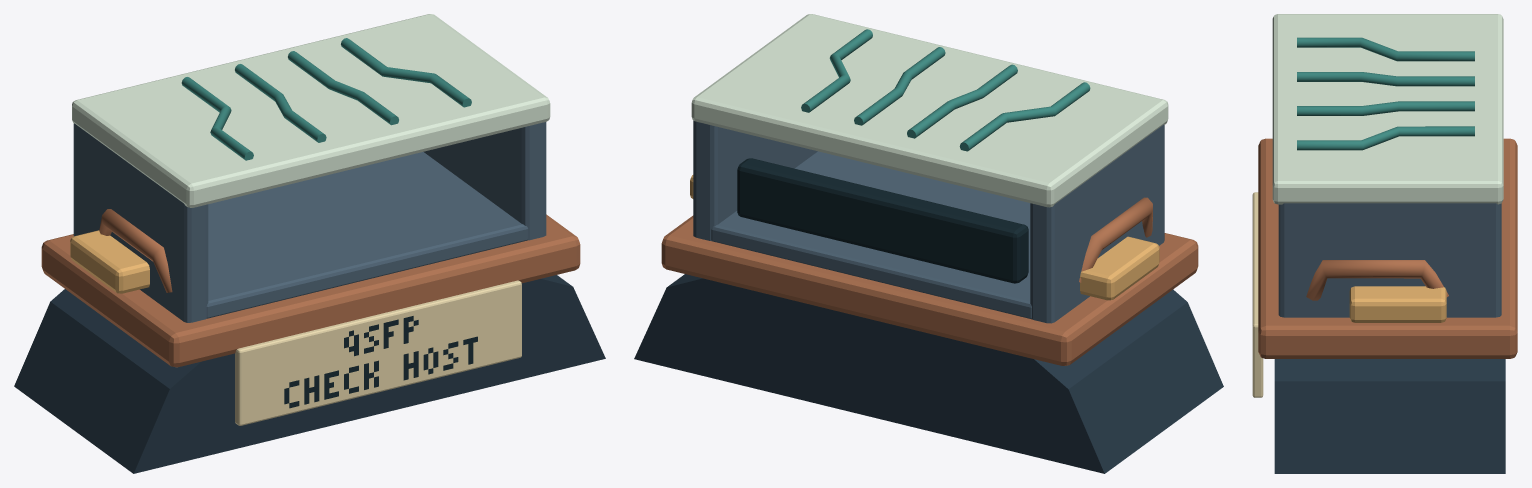
The picture shows the model from 3 angles, left to right: view 1: azimuth 30°, elevation 25°; view 2: azimuth 150°, elevation 25°; view 3: azimuth 270°, elevation 25°; orthographic projection. The views are drawn at different scales.
Parts seen in each view (by area): view 1: PR083 enamel and hardware; view 2: PR083 enamel and hardware; view 3: PR083 enamel and hardware.
Part boxes in pixels (x1,y1,x2,y2): PR083 enamel and hardware: (14,14,605,473); PR083 enamel and hardware: (634,14,1223,473); PR083 enamel and hardware: (1252,14,1517,473).
Bounding box in the file's own units: 1.3 × 0.7434 × 0.655.
